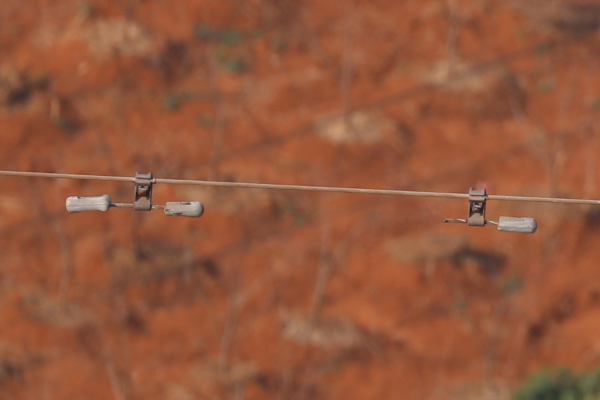damper: (61, 168, 208, 221)
damper_defect: (439, 182, 542, 238)
